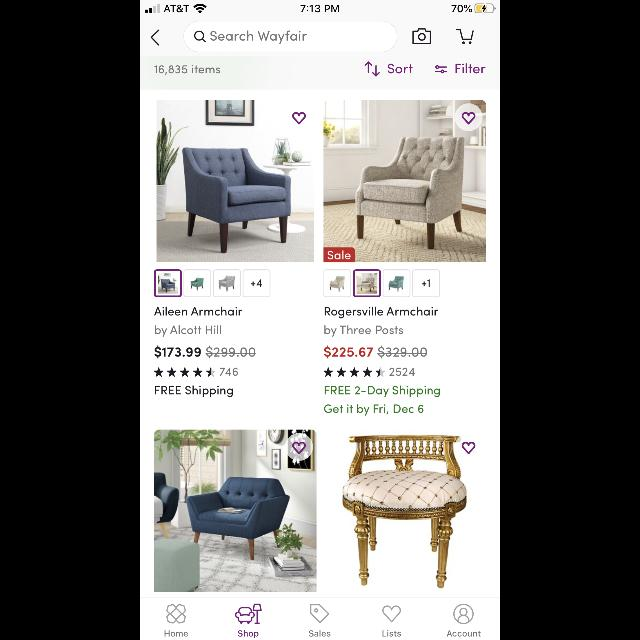icon: (286, 434, 312, 461), (456, 105, 482, 132), (154, 368, 216, 377), (324, 368, 384, 377), (454, 604, 474, 624), (310, 604, 330, 624), (412, 29, 432, 45), (383, 606, 401, 622), (456, 30, 474, 44), (364, 62, 380, 76), (462, 442, 476, 454), (292, 113, 306, 125), (151, 30, 159, 46), (194, 32, 206, 42), (436, 65, 446, 73)
image: (155, 430, 317, 592), (324, 100, 486, 262), (158, 100, 314, 262), (343, 436, 467, 588), (154, 269, 182, 297), (412, 270, 440, 296), (382, 270, 410, 296), (324, 270, 352, 296), (184, 270, 212, 296), (354, 270, 381, 296), (243, 270, 270, 296), (213, 270, 240, 296), (236, 604, 262, 624), (168, 604, 186, 624)
input: (185, 22, 398, 52)
text: (211, 31, 307, 44), (324, 346, 428, 358), (154, 346, 256, 358), (324, 404, 424, 416), (324, 386, 440, 396), (324, 308, 438, 318), (154, 306, 242, 316), (155, 325, 221, 337), (325, 326, 403, 336), (156, 386, 232, 396), (154, 65, 220, 75), (456, 64, 486, 74), (388, 64, 412, 74), (448, 630, 480, 636), (390, 368, 414, 376), (238, 630, 258, 638), (220, 368, 238, 376), (165, 630, 188, 636), (310, 630, 330, 636), (383, 630, 401, 636)
uppertaskbar: (140, 0, 500, 14)
